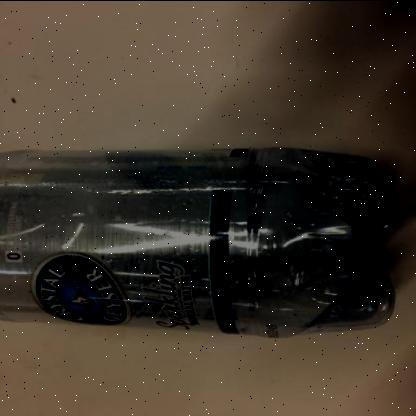Plastic Bottle: (0, 147, 397, 337)
